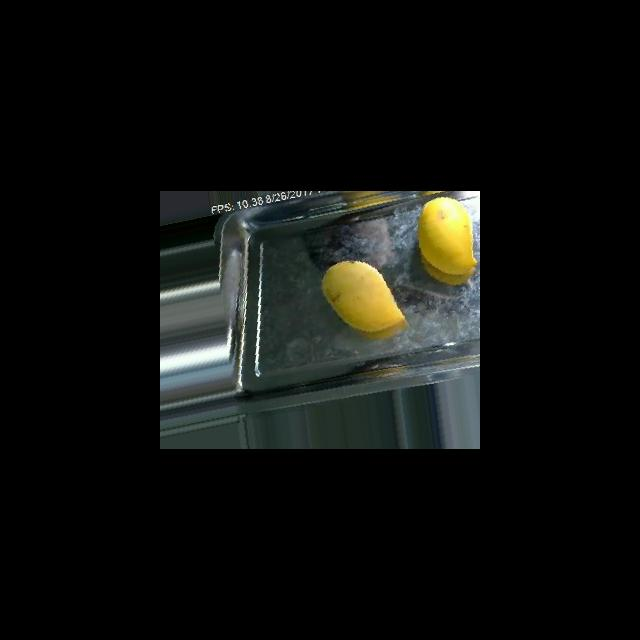Mango: (321, 259, 407, 337), (417, 196, 477, 275)
